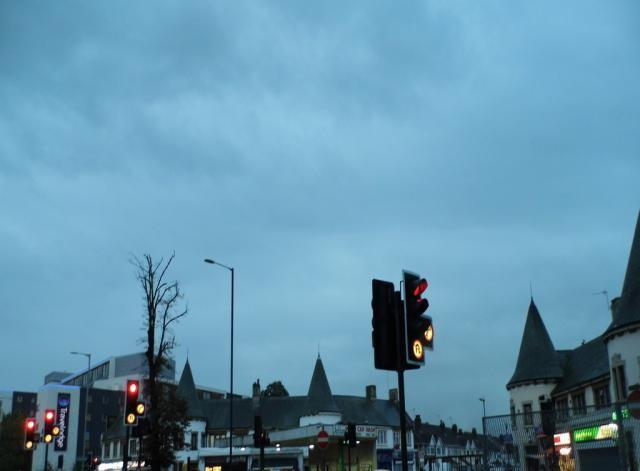red_light: (403, 271, 432, 365), (122, 378, 147, 426), (22, 417, 42, 449), (42, 408, 60, 442)
